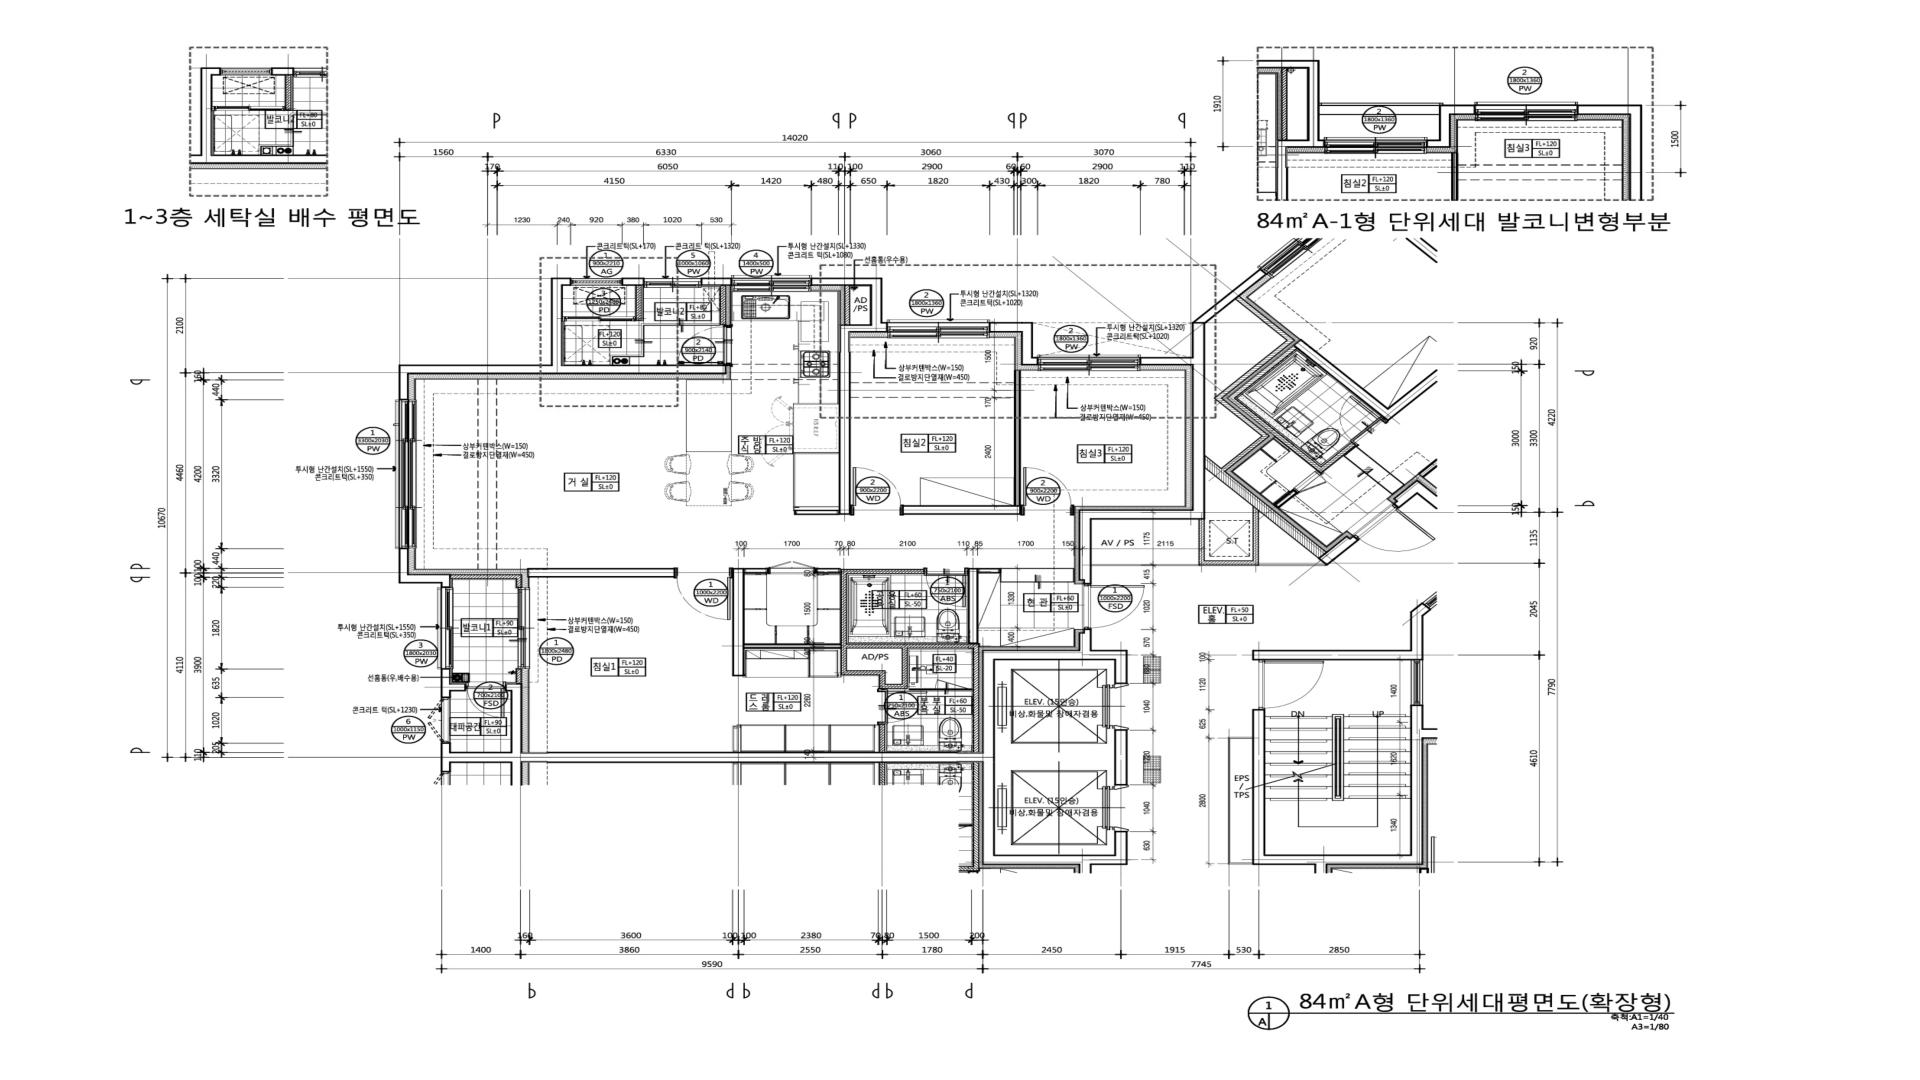door: (1258, 660, 1324, 709), (674, 567, 732, 620), (1084, 584, 1145, 629), (1022, 466, 1075, 516), (851, 467, 902, 516), (677, 325, 732, 365), (924, 567, 968, 607), (877, 691, 928, 724), (466, 681, 505, 718), (768, 561, 815, 574), (935, 679, 973, 690), (563, 316, 635, 321)
wall: (1205, 455, 1326, 558), (451, 752, 982, 763), (399, 365, 726, 374), (982, 650, 995, 865), (838, 324, 851, 515), (1252, 709, 1266, 854), (1192, 357, 1205, 509), (1410, 705, 1423, 854), (1252, 854, 1423, 865), (1252, 650, 1423, 660), (995, 649, 1128, 661), (527, 568, 674, 578), (995, 854, 1128, 865), (732, 568, 745, 677), (1318, 535, 1359, 566), (1092, 509, 1205, 520), (902, 505, 1022, 515), (505, 684, 522, 752), (551, 277, 563, 365), (1078, 509, 1092, 584), (1410, 602, 1431, 650), (870, 277, 887, 333), (1014, 370, 1021, 505), (1393, 480, 1426, 508), (1114, 729, 1128, 786), (968, 568, 978, 644), (840, 569, 847, 675), (973, 648, 979, 752), (745, 643, 840, 649), (409, 574, 450, 587), (811, 277, 870, 286), (847, 644, 979, 648), (1417, 487, 1437, 510), (1141, 357, 1192, 366), (1021, 322, 1033, 357), (847, 569, 924, 574), (1252, 506, 1259, 560), (450, 574, 522, 579), (399, 549, 409, 584), (990, 322, 1021, 333), (1114, 661, 1128, 684), (1198, 520, 1205, 566), (1114, 831, 1128, 854), (879, 675, 901, 689), (1078, 629, 1092, 650), (441, 743, 451, 772), (441, 669, 451, 698), (901, 649, 908, 689), (701, 277, 732, 286), (720, 286, 727, 325), (1205, 560, 1259, 565), (399, 374, 409, 400), (1228, 739, 1230, 862), (635, 286, 642, 321), (844, 286, 850, 324), (794, 510, 838, 515), (622, 277, 644, 286), (879, 724, 886, 752), (847, 670, 886, 675), (851, 324, 870, 333), (1021, 357, 1038, 366), (815, 568, 840, 574), (745, 568, 768, 574), (978, 568, 1001, 574), (451, 684, 466, 692), (733, 726, 737, 752), (516, 669, 522, 684), (563, 277, 571, 286), (1228, 736, 1252, 739), (516, 579, 522, 588), (909, 688, 935, 690), (1228, 862, 1252, 864), (877, 689, 887, 691)
window: (396, 400, 416, 548), (887, 320, 989, 338), (1038, 355, 1141, 371), (732, 275, 811, 292), (438, 587, 454, 669), (518, 588, 530, 669), (644, 278, 701, 288), (1411, 660, 1423, 705), (441, 698, 451, 743), (571, 278, 622, 285)
